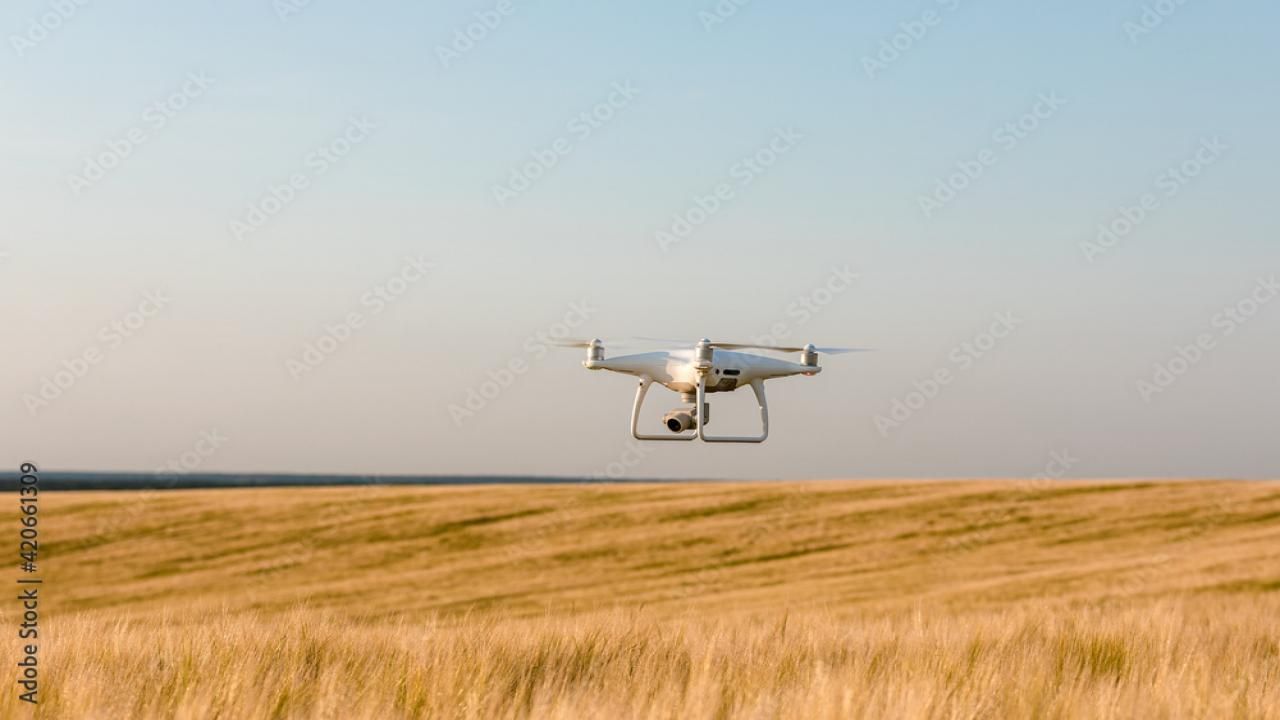Drone: (523, 322, 888, 454)
